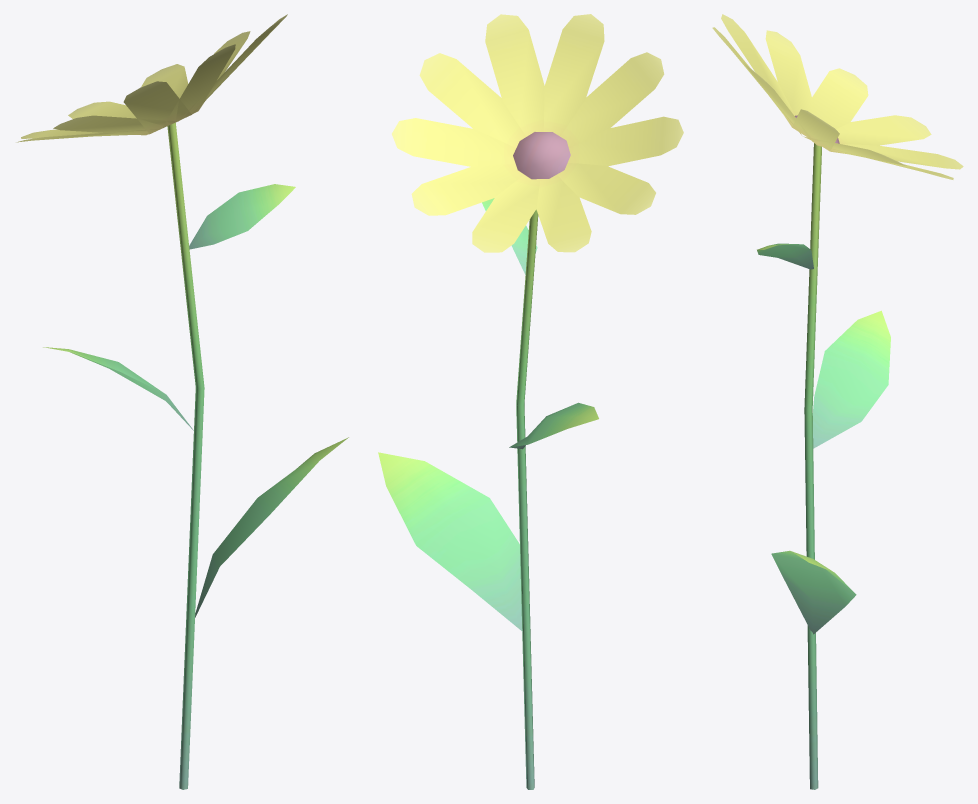
The model's file is Flower.011_Base_Material_0.fbx.
3 renders of one model, left to right at view 1: azimuth 30°, elevation 25°; view 2: azimuth 150°, elevation 25°; view 3: azimuth 270°, elevation 25°, orthographic. The views are drawn at different scales.
Parts seen in each view (by area): view 1: Flower.011_Base_Material_0_export; view 2: Flower.011_Base_Material_0_export; view 3: Flower.011_Base_Material_0_export.
Part boxes in pixels (box(x1,y1,x2,y2)): Flower.011_Base_Material_0_export: box(16, 14, 348, 789); Flower.011_Base_Material_0_export: box(378, 14, 683, 789); Flower.011_Base_Material_0_export: box(712, 14, 963, 789).
Size of the model in its own units: 0.8988 by 2.15 by 0.6505.
